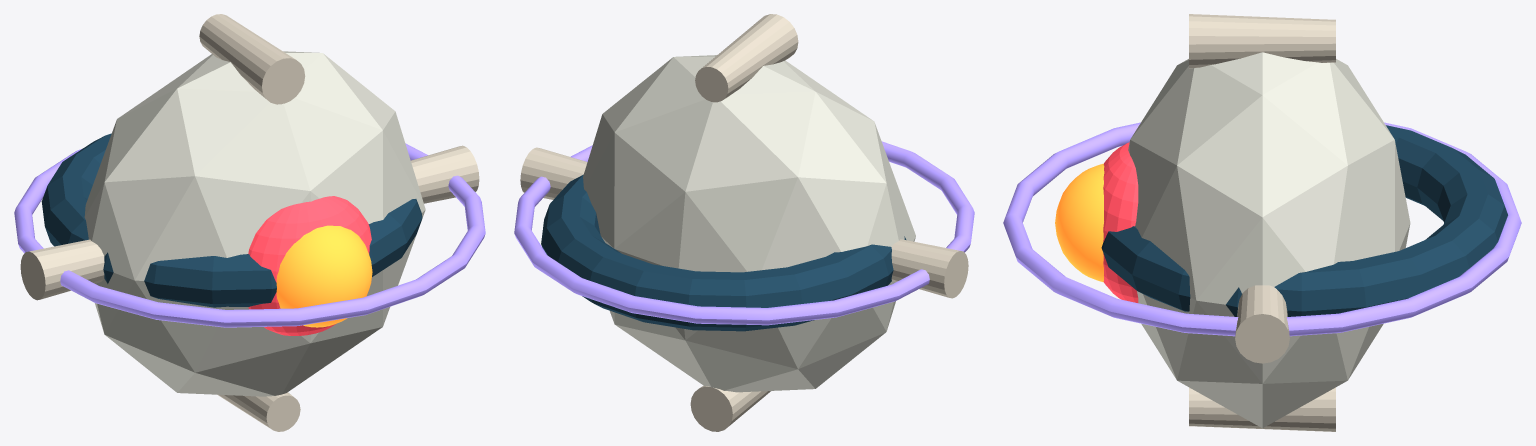
Rendered from enemy-prism.glb.
The picture shows the model from 3 angles, left to right: view 1: azimuth 30°, elevation 25°; view 2: azimuth 150°, elevation 25°; view 3: azimuth 270°, elevation 25°; orthographic projection. The views are drawn at different scales.
Parts seen in each view (by area): view 1: porcelain_static, hull_static, accent_static, aim_ring, target_eye, hazard_static; view 2: porcelain_static, accent_static, hull_static, aim_ring; view 3: porcelain_static, accent_static, aim_ring, hull_static, target_eye, hazard_static.
Part boxes in pixels (x1,y1,x2,y2): porcelain_static: [84, 51, 425, 396]; hull_static: [20, 14, 479, 431]; accent_static: [41, 133, 422, 307]; aim_ring: [14, 143, 485, 327]; target_eye: [276, 225, 372, 327]; hazard_static: [248, 196, 371, 335]; porcelain_static: [583, 55, 915, 392]; accent_static: [541, 174, 906, 331]; hull_static: [520, 14, 968, 431]; aim_ring: [514, 141, 974, 325]; porcelain_static: [1128, 52, 1410, 428]; accent_static: [1101, 125, 1507, 316]; aim_ring: [1003, 122, 1521, 336]; hull_static: [1189, 14, 1335, 431]; target_eye: [1055, 163, 1104, 282]; hazard_static: [1103, 142, 1138, 302].
Size of the model in its own units: 560 by 466 by 530.
